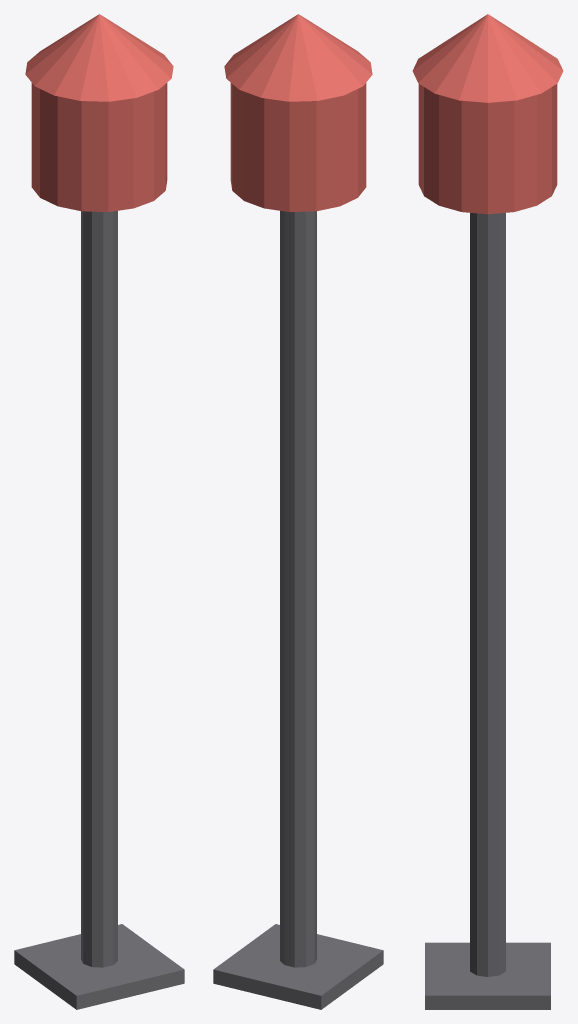
Rendered from siren_mast.glb.
3 renders of one model, left to right at view 1: azimuth 30°, elevation 25°; view 2: azimuth 150°, elevation 25°; view 3: azimuth 270°, elevation 25°, orthographic.
Parts seen in each view (by area): view 1: siren_mast_iron, siren_mast_siren; view 2: siren_mast_iron, siren_mast_siren; view 3: siren_mast_iron, siren_mast_siren.
Boxes of the visible parts, box(x1,y1,x2,y2) form: siren_mast_iron: box(14, 211, 184, 1009); siren_mast_siren: box(25, 14, 173, 211); siren_mast_iron: box(213, 211, 383, 1009); siren_mast_siren: box(224, 14, 372, 211); siren_mast_iron: box(425, 213, 550, 1009); siren_mast_siren: box(412, 14, 563, 214).
Size of the model in its own units: 0.48 by 3.4 by 0.48.
